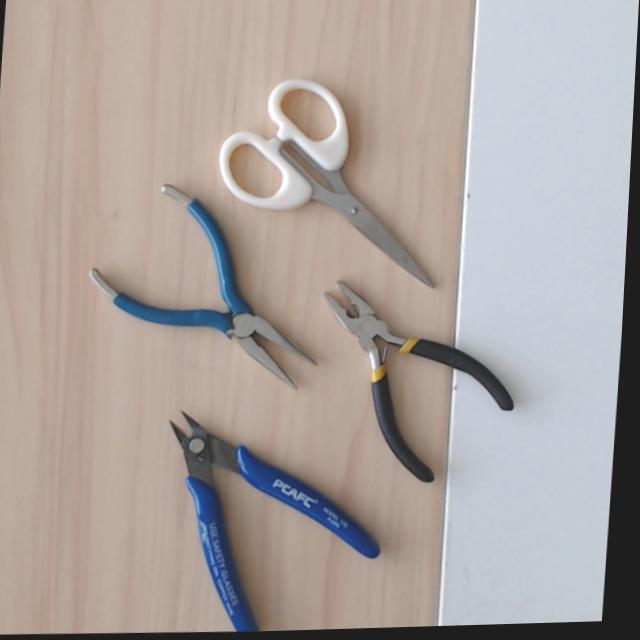Gunting: (195, 61, 435, 350)
Tang-Jepit-Biru: (80, 172, 350, 432)
Tang-Jepit-Hitam: (280, 242, 521, 489)
Tang-Potong-Biru: (120, 360, 383, 640)
